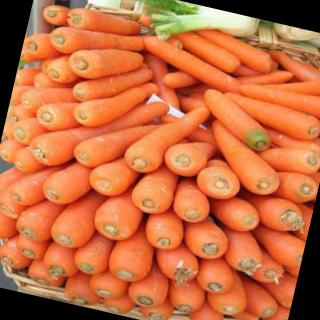Wortel: (121, 92, 212, 186), (199, 118, 293, 202), (136, 34, 253, 99), (216, 90, 320, 147), (193, 86, 281, 152), (71, 53, 157, 119), (70, 73, 150, 140), (65, 37, 146, 92), (65, 2, 146, 43), (128, 160, 182, 220), (85, 151, 144, 204), (193, 156, 247, 207)
